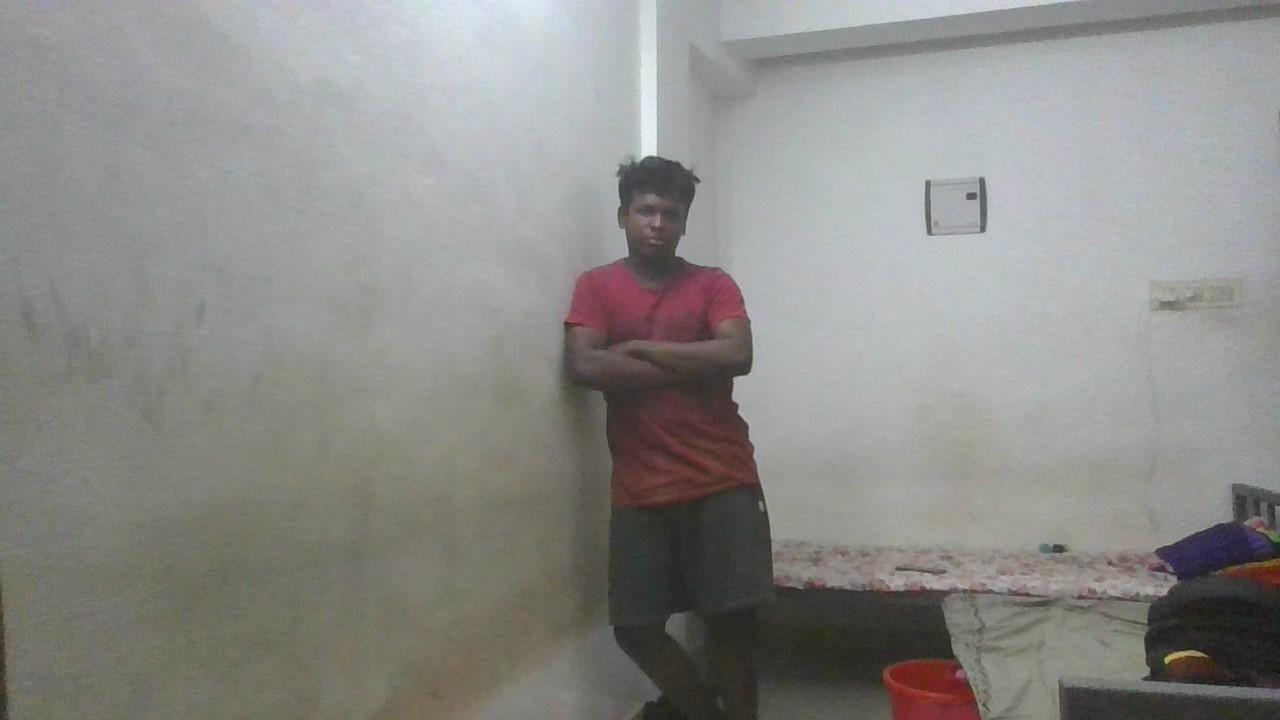nohelmet: (614, 154, 697, 269)
